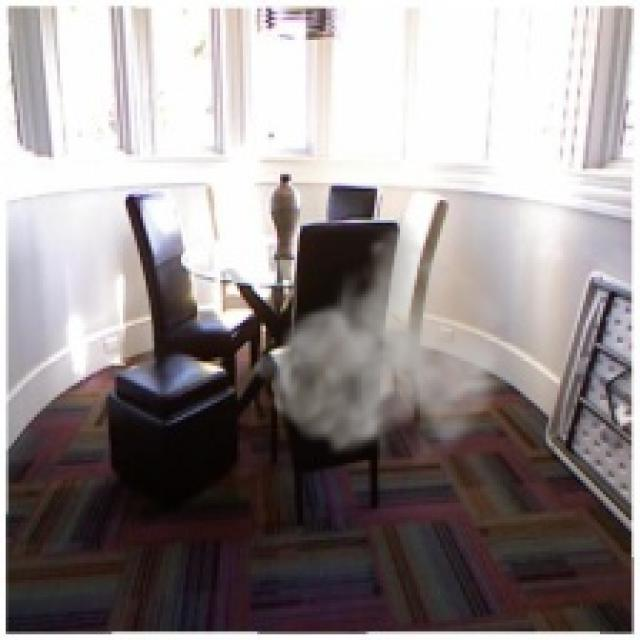smoke: (249, 212, 514, 477)
